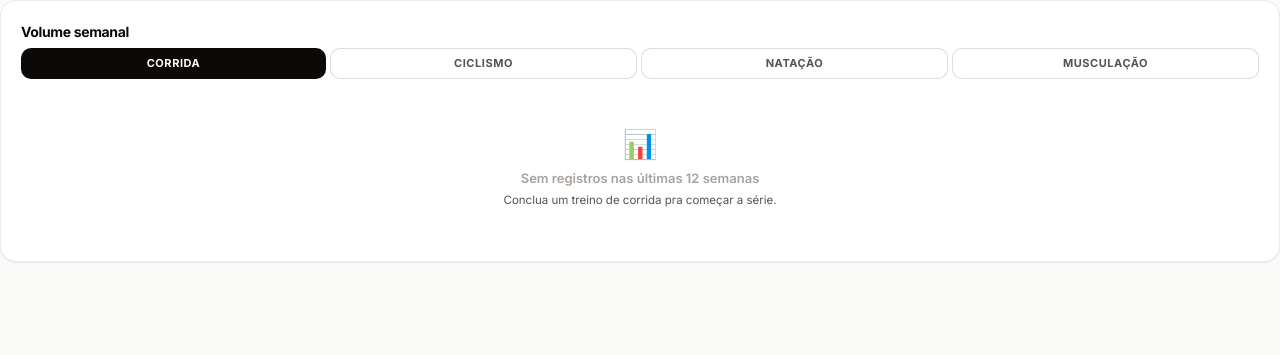
it: GraficoVolume — empty state + totais › musculação com tonelagem grande → formata com vírgula PT-BR
The width and height of the screenshot is (1280, 355).
Click the tab "Musculação".
click(1106, 63)  # box x1=952 y1=48 x2=1259 y2=78
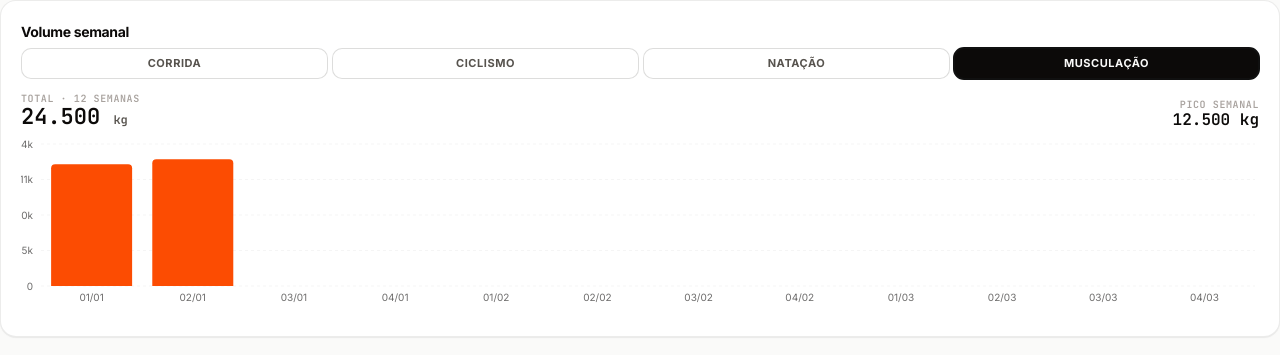
Check: the text "24.500 kg" is shown, box x1=21 y1=106 x2=140 y2=128
Check: the text "kg" is shown, box x1=113 y1=112 x2=128 y2=128
